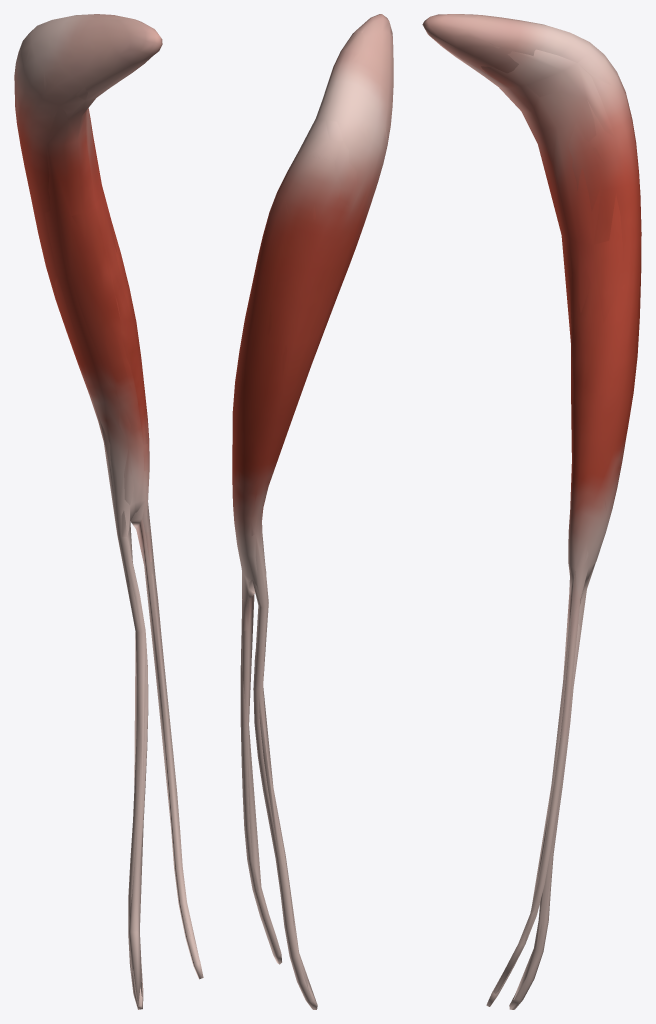
The model's file is L Superficial Digital Flexor.fbx.
3 renders of one model, left to right at view 1: azimuth 30°, elevation 25°; view 2: azimuth 150°, elevation 25°; view 3: azimuth 270°, elevation 25°, orthographic. The views are drawn at different scales.
Parts seen in each view (by area): view 1: L Superficial Digital Flexor, L Superficial Digital Flexor low; view 2: L Superficial Digital Flexor, L Superficial Digital Flexor low; view 3: L Superficial Digital Flexor, L Superficial Digital Flexor low.
Part boxes in pixels (left/top/right/bottom): L Superficial Digital Flexor: left=15, top=14, right=203, bottom=1009; L Superficial Digital Flexor low: left=14, top=15, right=197, bottom=1004; L Superficial Digital Flexor: left=232, top=14, right=393, bottom=1009; L Superficial Digital Flexor low: left=234, top=18, right=387, bottom=1002; L Superficial Digital Flexor: left=422, top=14, right=641, bottom=1009; L Superficial Digital Flexor low: left=438, top=16, right=633, bottom=999.
Size of the model in its own units: 2.89 by 19.61 by 3.97.
